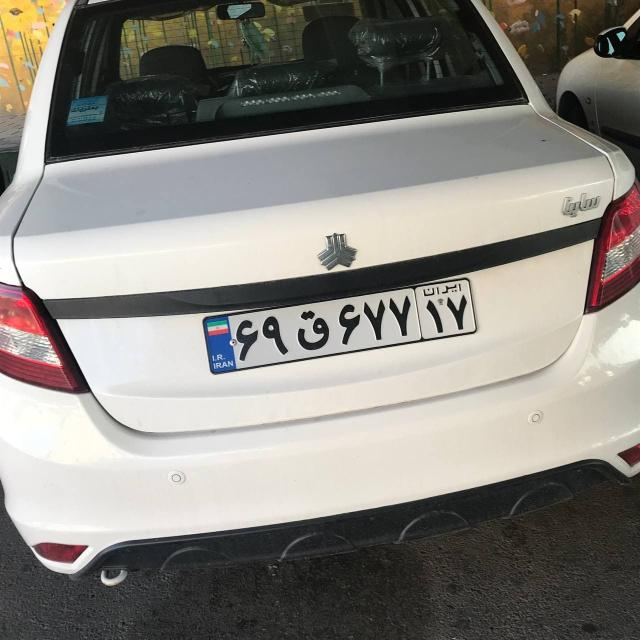Plates: (203, 276, 477, 374)
